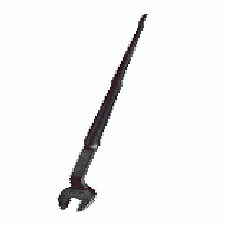Wrench: (52, 18, 153, 219)
